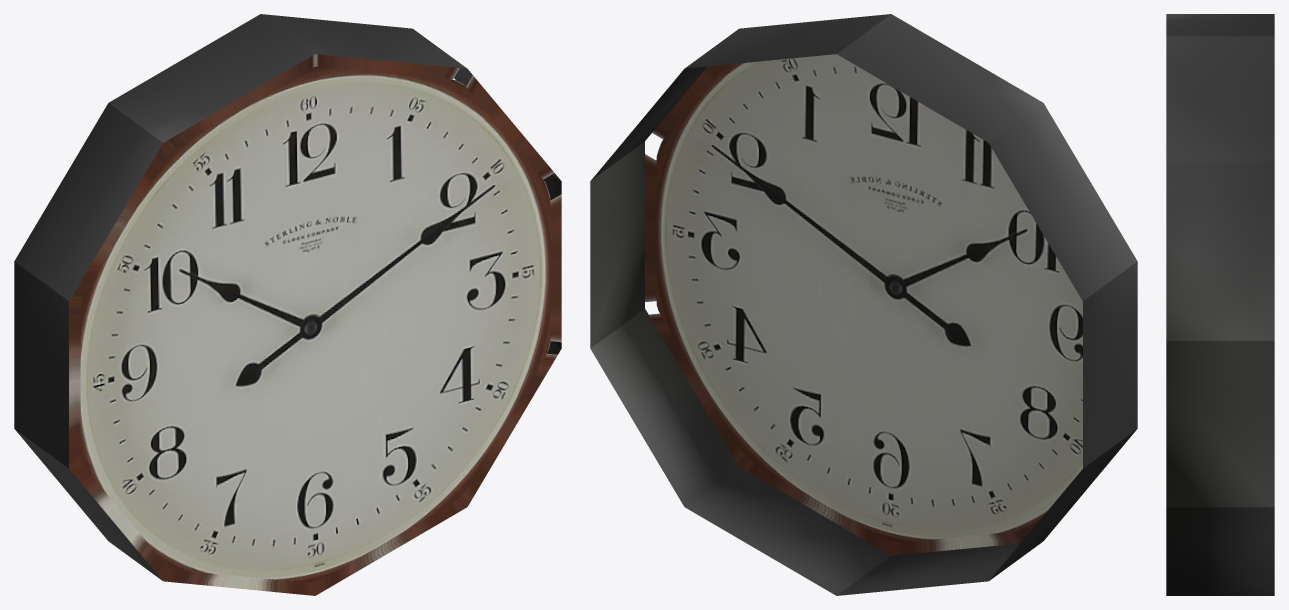
Rendered from clock.fbx.
The picture shows the model from 3 angles, left to right: view 1: azimuth 30°, elevation 25°; view 2: azimuth 150°, elevation 25°; view 3: azimuth 270°, elevation 25°; orthographic projection.
Parts seen in each view (by area): view 1: clock; view 2: clock; view 3: clock.
Boxes of the visible parts, box(x1,y1,x2,y2) form: clock: box(14, 14, 561, 595); clock: box(590, 14, 1137, 595); clock: box(1166, 14, 1274, 595).
Size of the model in its own units: 199 by 210 by 38.42.
